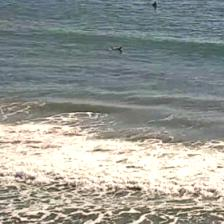surfer: (111, 46, 123, 53), (152, 1, 158, 8)
